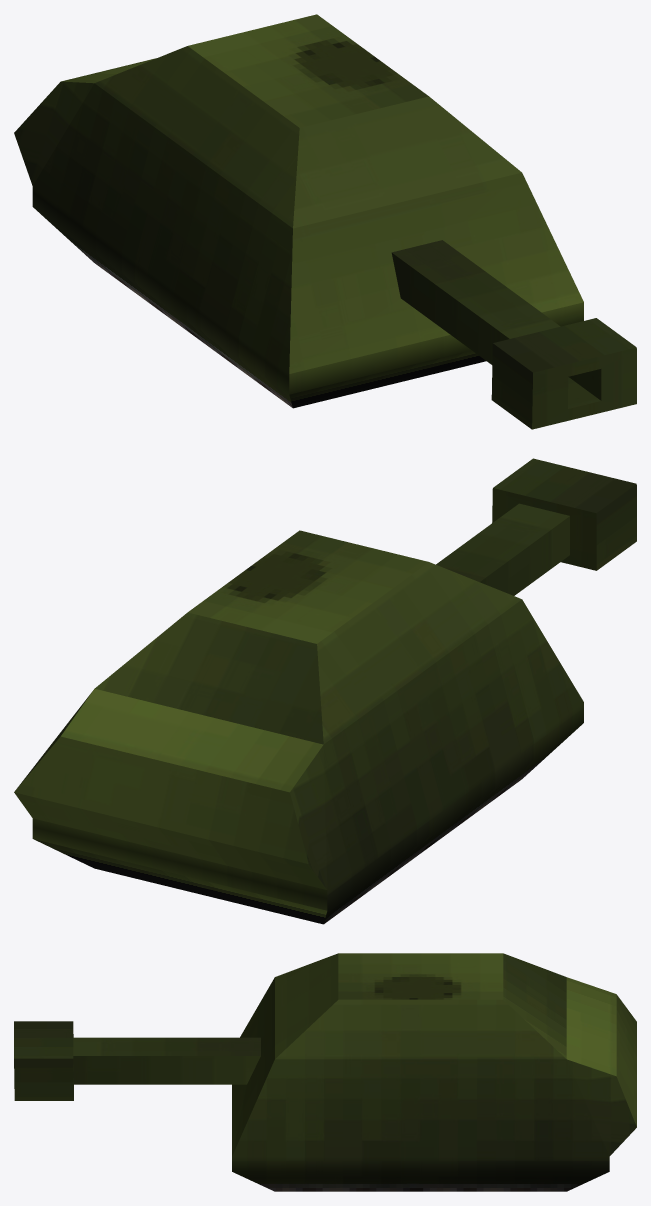
The model's file is poly tank.fbx.
3 views of the same model, one above another, from view 1: azimuth 30°, elevation 25°; view 2: azimuth 150°, elevation 25°; view 3: azimuth 270°, elevation 25° (orthographic). The views are drawn at different scales.
Visible parts, largest first — view 1: pCube1; view 2: pCube1; view 3: pCube1.
Part boxes in pixels (x1,y1,x2,y2): pCube1: [14, 14, 636, 429]; pCube1: [14, 458, 636, 924]; pCube1: [14, 953, 636, 1191].
Size of the model in its own units: 103 by 78.94 by 256.
